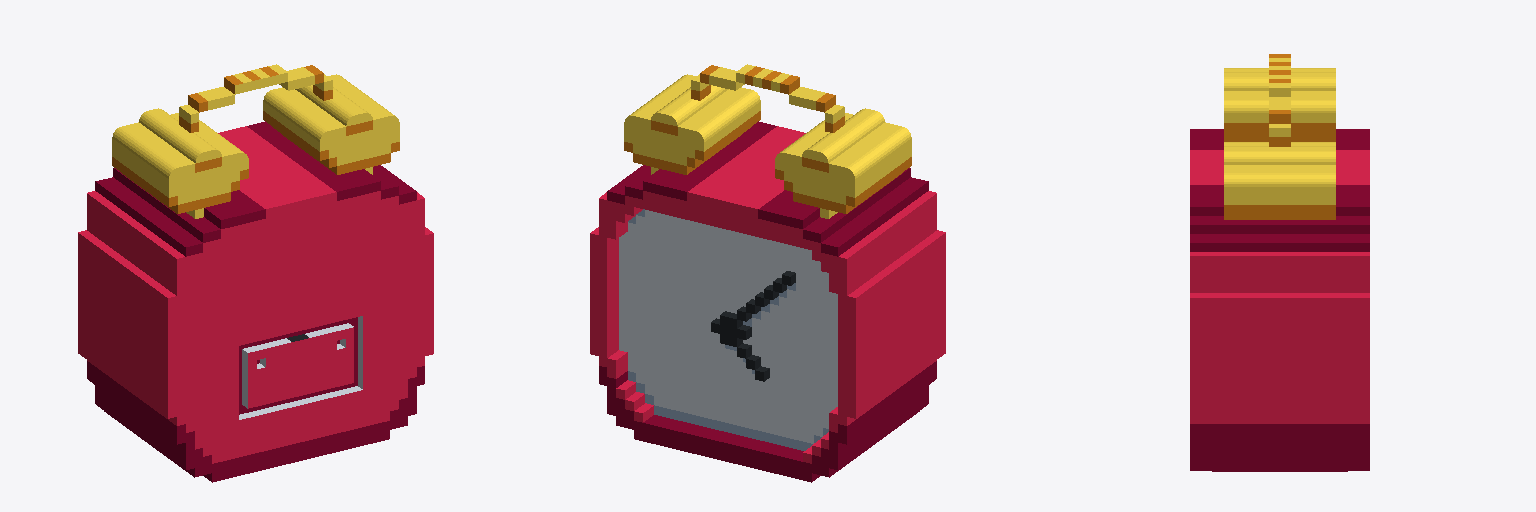
Rendered from AlarmClock.obj.
3 renders of one model, left to right at view 1: azimuth 30°, elevation 25°; view 2: azimuth 150°, elevation 25°; view 3: azimuth 270°, elevation 25°, orthographic.
Size of the model in its own units: 30 by 39 by 17.6.